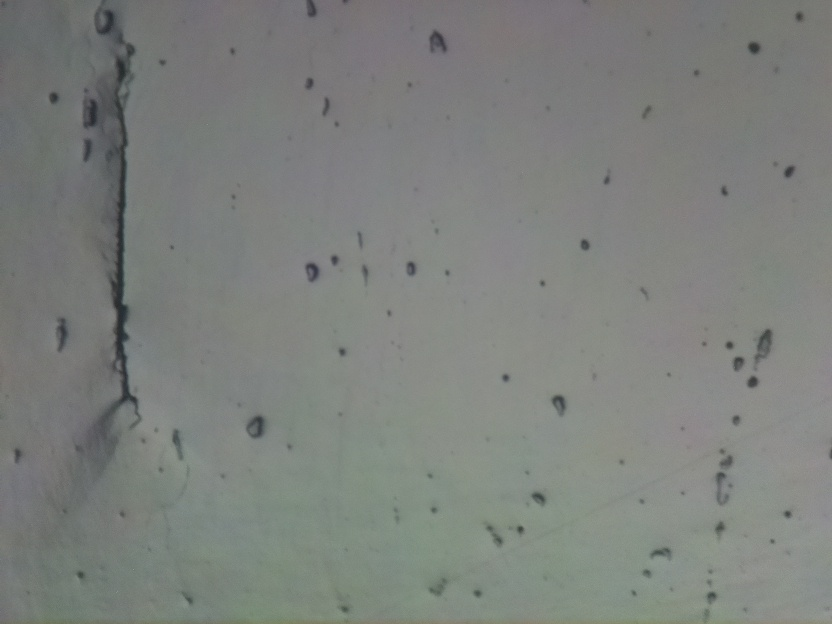crack: (92, 44, 148, 431)
